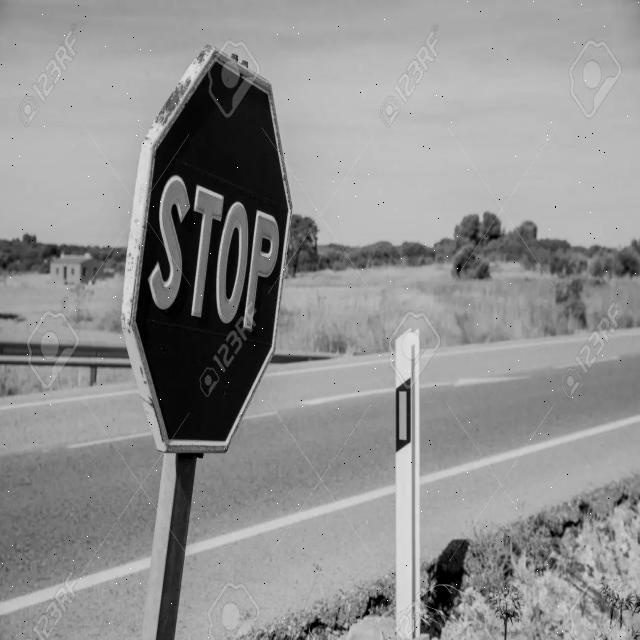Stop-sign: (116, 0, 306, 460)
